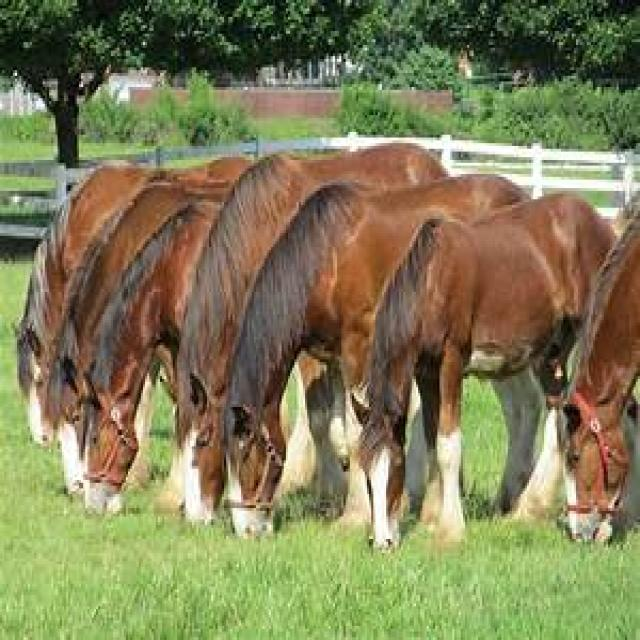horse: (224, 174, 529, 536), (175, 146, 450, 525), (358, 196, 619, 550), (45, 160, 252, 497), (58, 199, 220, 514), (565, 211, 640, 545)
